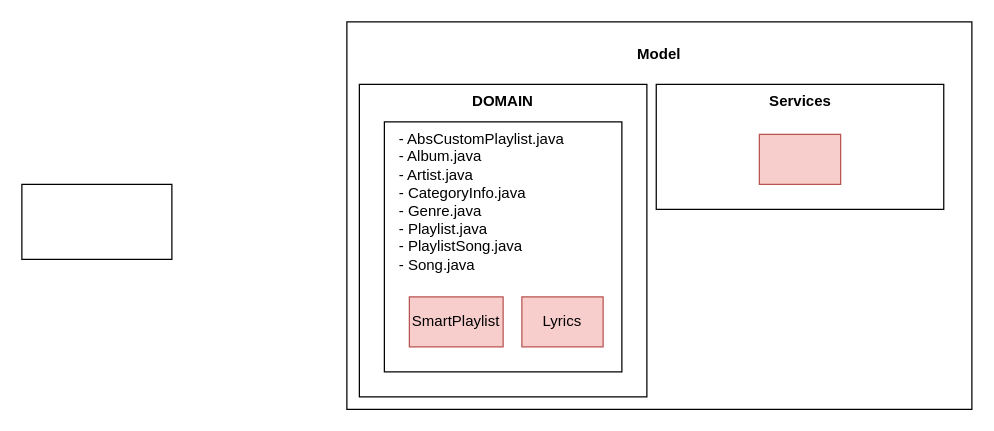
Image size: 994x431. Some labels were removed from this diagram. The shapes that lost their labels are listed below. From the top down, each one's centre as x and y in pixels, then its label:
At point (799, 158): "Loader".
At point (96, 221): "MediaStore (BD Android)".
